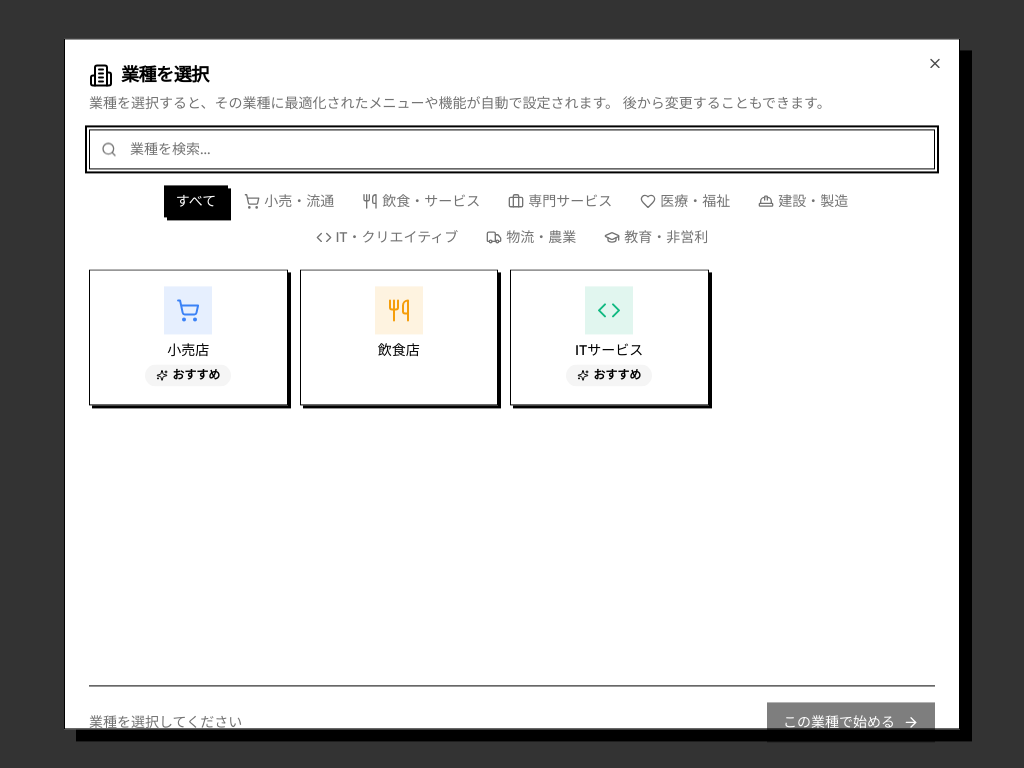
it: IndustryOnboardingDialog › should enable button when template is selected
The width and height of the screenshot is (1024, 768).
Click the text "小売店". click: point(188, 337)
box: [89, 269, 288, 405]
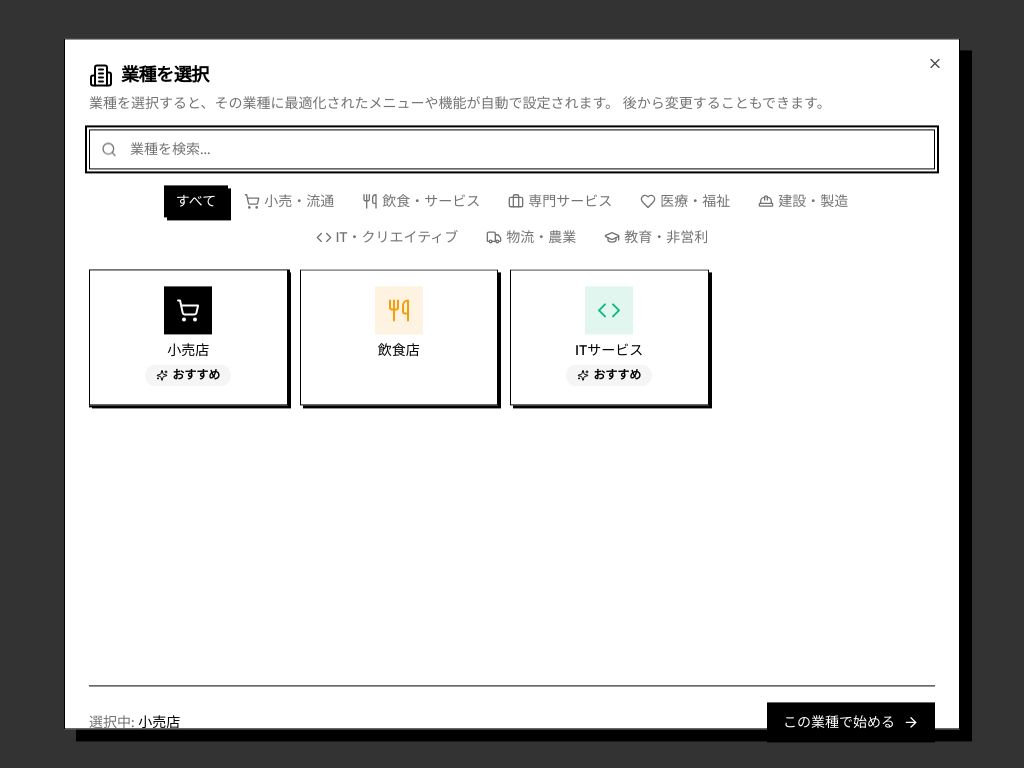
expect the button "この業種で始める" is enabled: met, box [767, 702, 935, 742]
